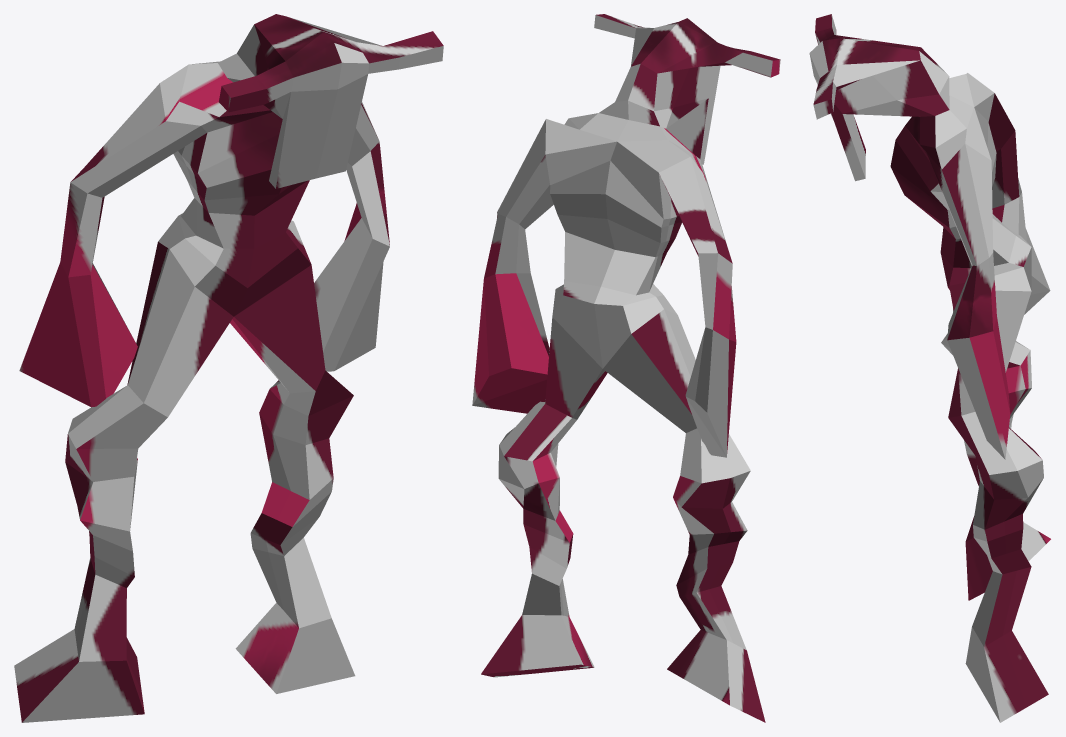
Rendered from monstruo2_prueba267.obj.
3 views of the same model, side by side, from view 1: azimuth 30°, elevation 25°; view 2: azimuth 150°, elevation 25°; view 3: azimuth 270°, elevation 25° (orthographic). The views are drawn at different scales.
Visible parts, largest first — view 1: monstruo; view 2: monstruo; view 3: monstruo.
Boxes of the visible parts, box(x1,y1,x2,y2) form: monstruo: box(14, 14, 443, 722); monstruo: box(472, 14, 780, 722); monstruo: box(809, 14, 1050, 722).
Bounding box in the file's own units: 2.29 × 4.63 × 1.61.
